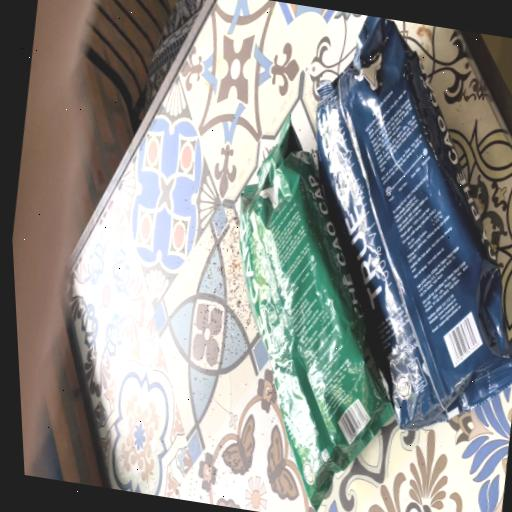cafe_hat: (316, 14, 512, 429)
cafe_xay: (239, 115, 393, 507)
